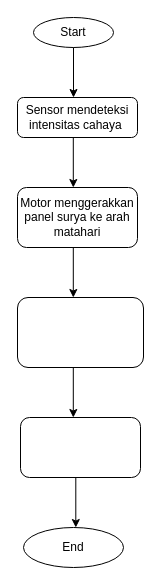
This 161x585 diagram has some shape labels left out. The shapes that lost their labels are listed below. From the top down, each one's box as (x1, y1, x2, y2) in pixels, then its label:
(16, 296, 144, 368): Panel surya menyerap dan mengubah cahaya matahari menjadi listrik
(20, 416, 140, 478): Menyimpan energi matahari di dalam baterai
